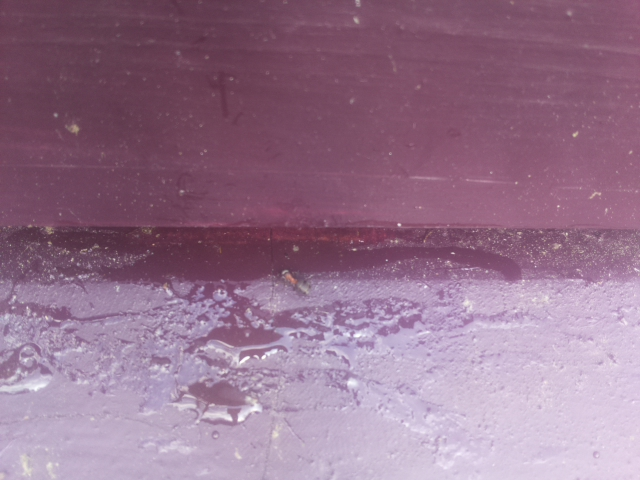ant: (275, 266, 314, 298)
